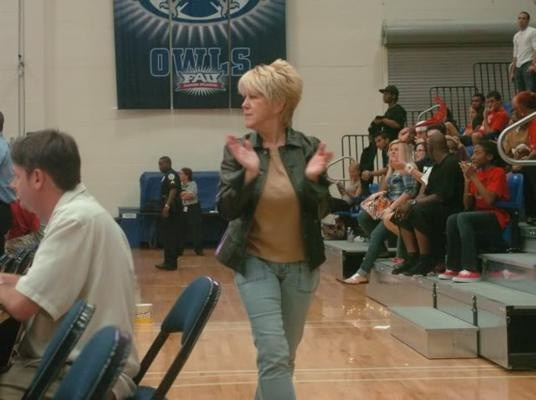person without safety: (210, 54, 343, 400)
